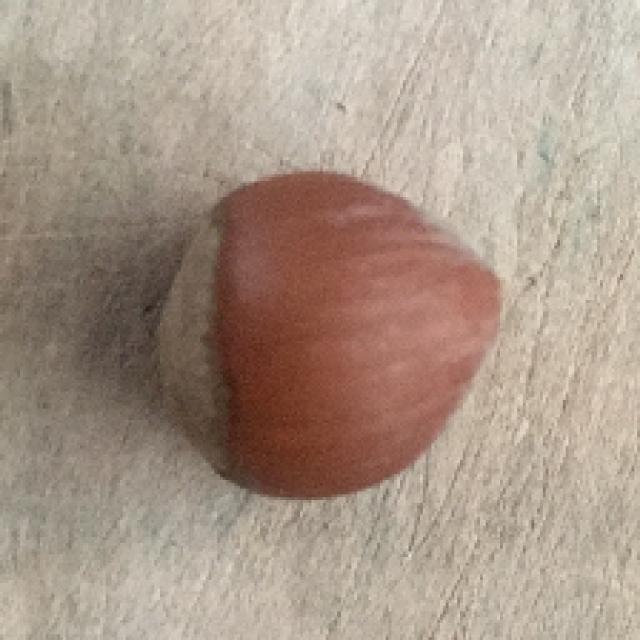qualityHazelnut: (143, 159, 512, 513)
